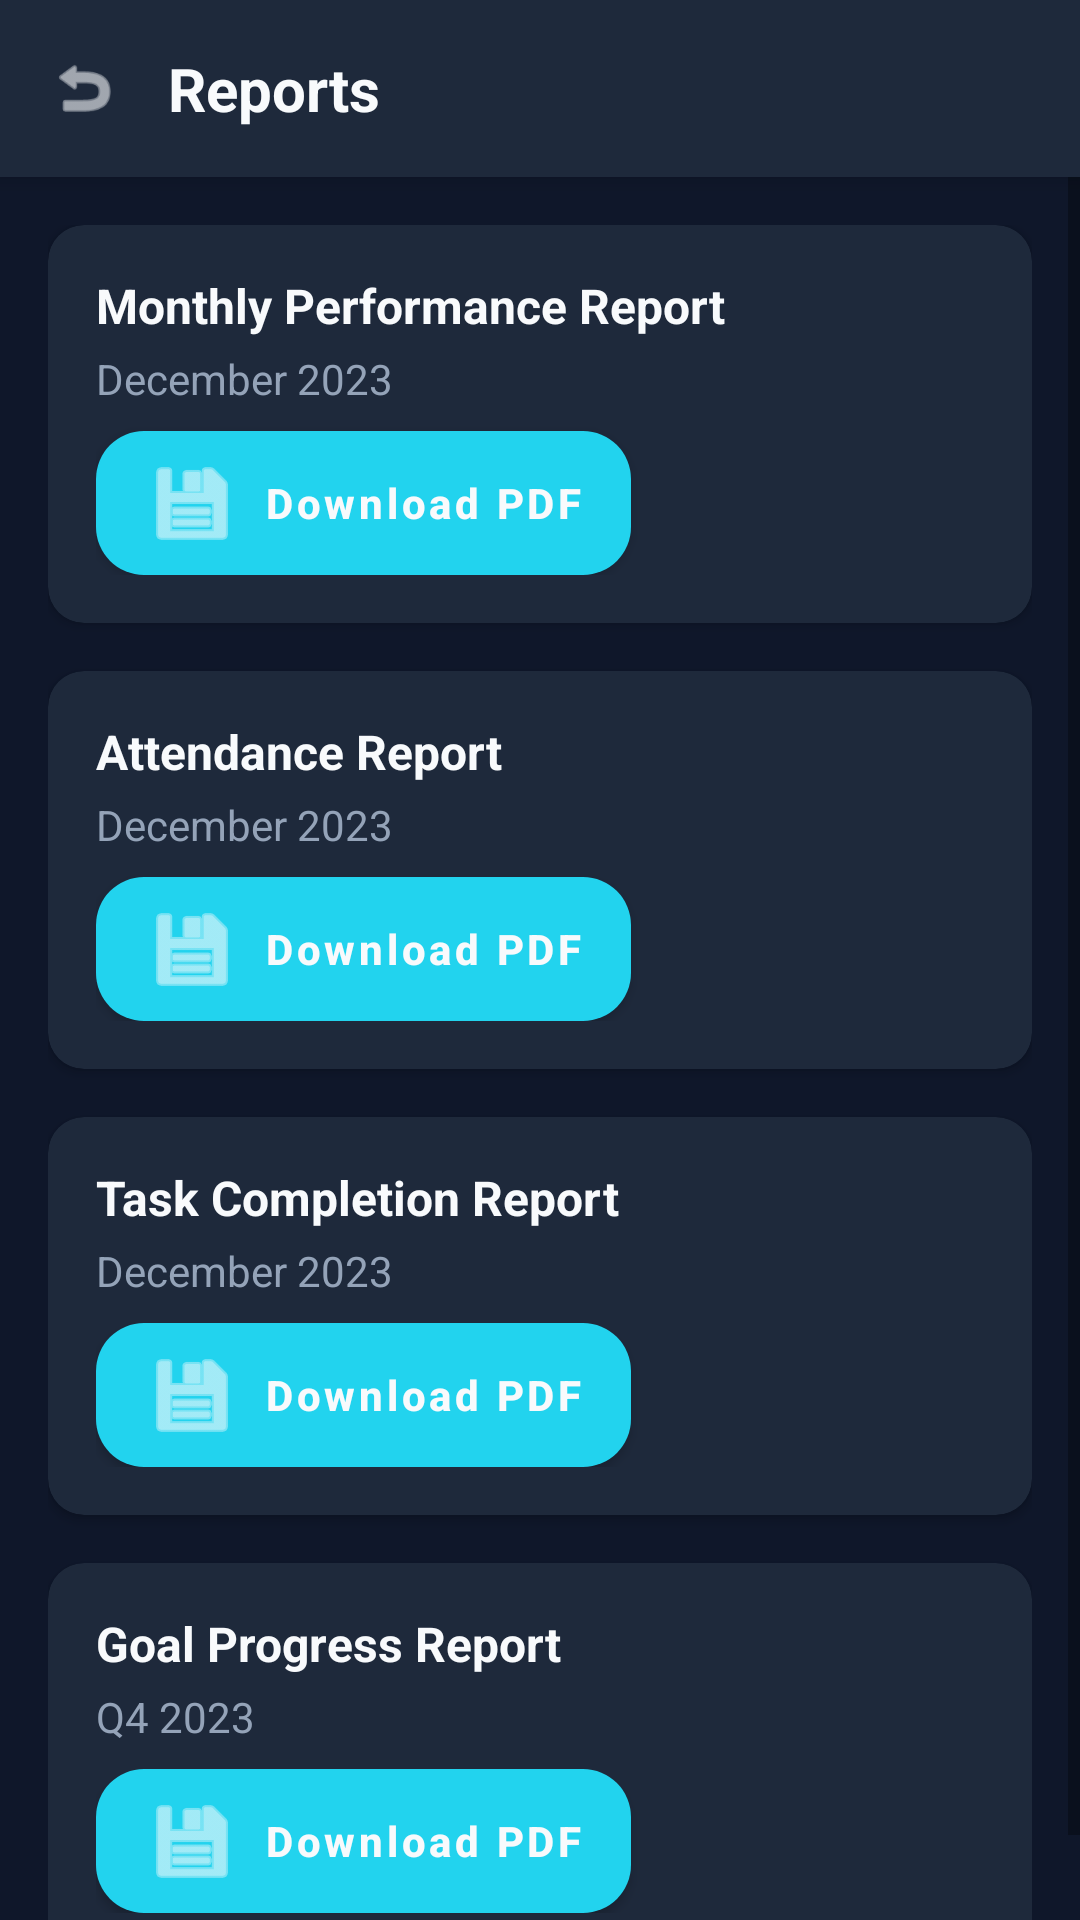

Screen size 1080x1920. Icon name, then its box in pixels as {"left": x1, "top": y1, "right": x2, "bottom": y2}:
revert: {"left": 59, "top": 65, "right": 111, "bottom": 112}
